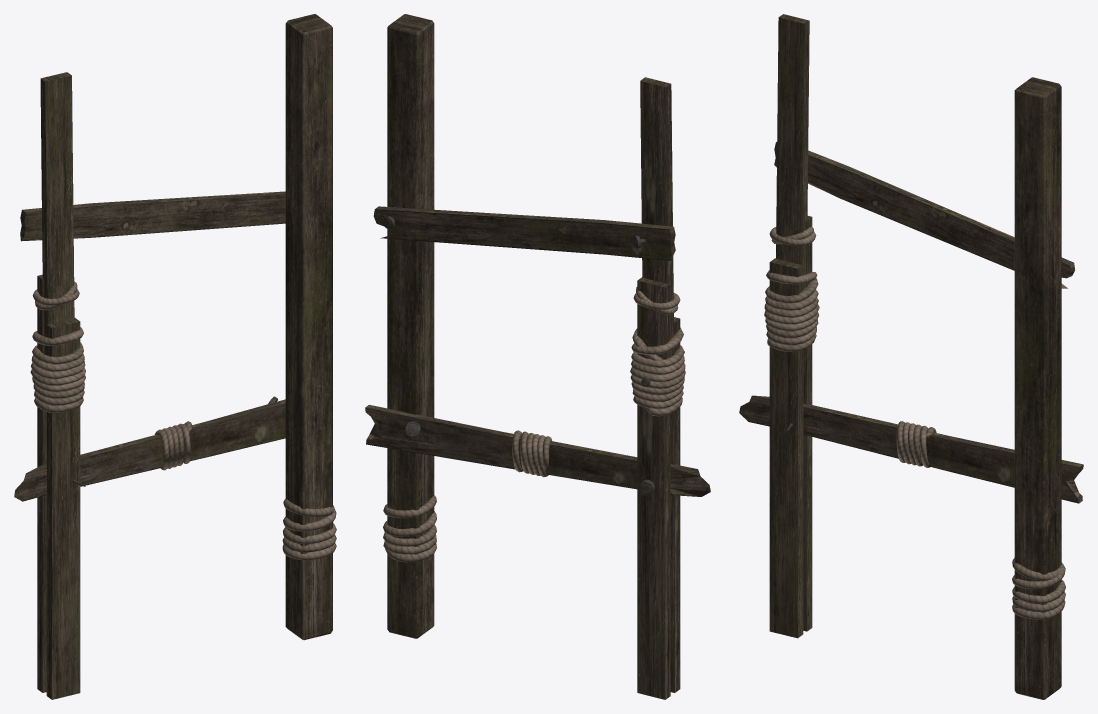
The model's file is dock_lower05.fbx.
The picture shows the model from 3 angles, left to right: view 1: azimuth 30°, elevation 25°; view 2: azimuth 150°, elevation 25°; view 3: azimuth 330°, elevation 25°; orthographic projection.
Visible parts, largest first — view 1: dock_lower05; view 2: dock_lower05; view 3: dock_lower05.
Boxes of the visible parts, box(x1,y1,x2,y2) form: dock_lower05: box(14, 14, 336, 699); dock_lower05: box(365, 14, 710, 699); dock_lower05: box(739, 14, 1083, 699).
Size of the model in its own units: 392 by 696 by 73.13.
